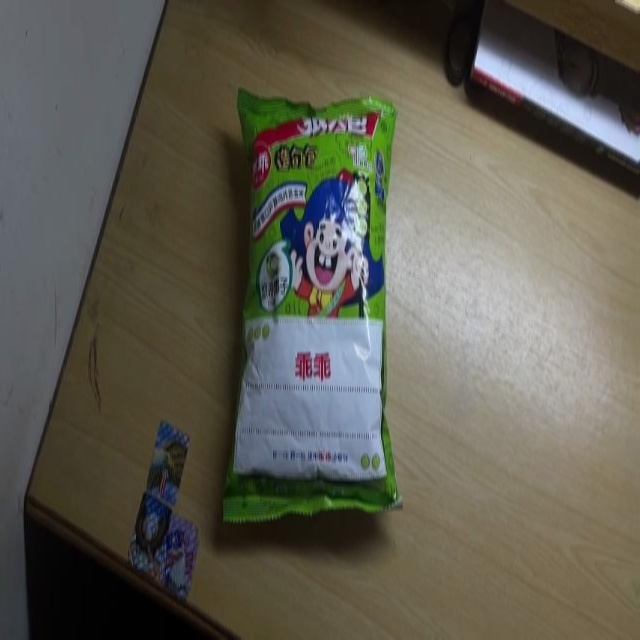Good-Luck: (222, 82, 407, 521)
